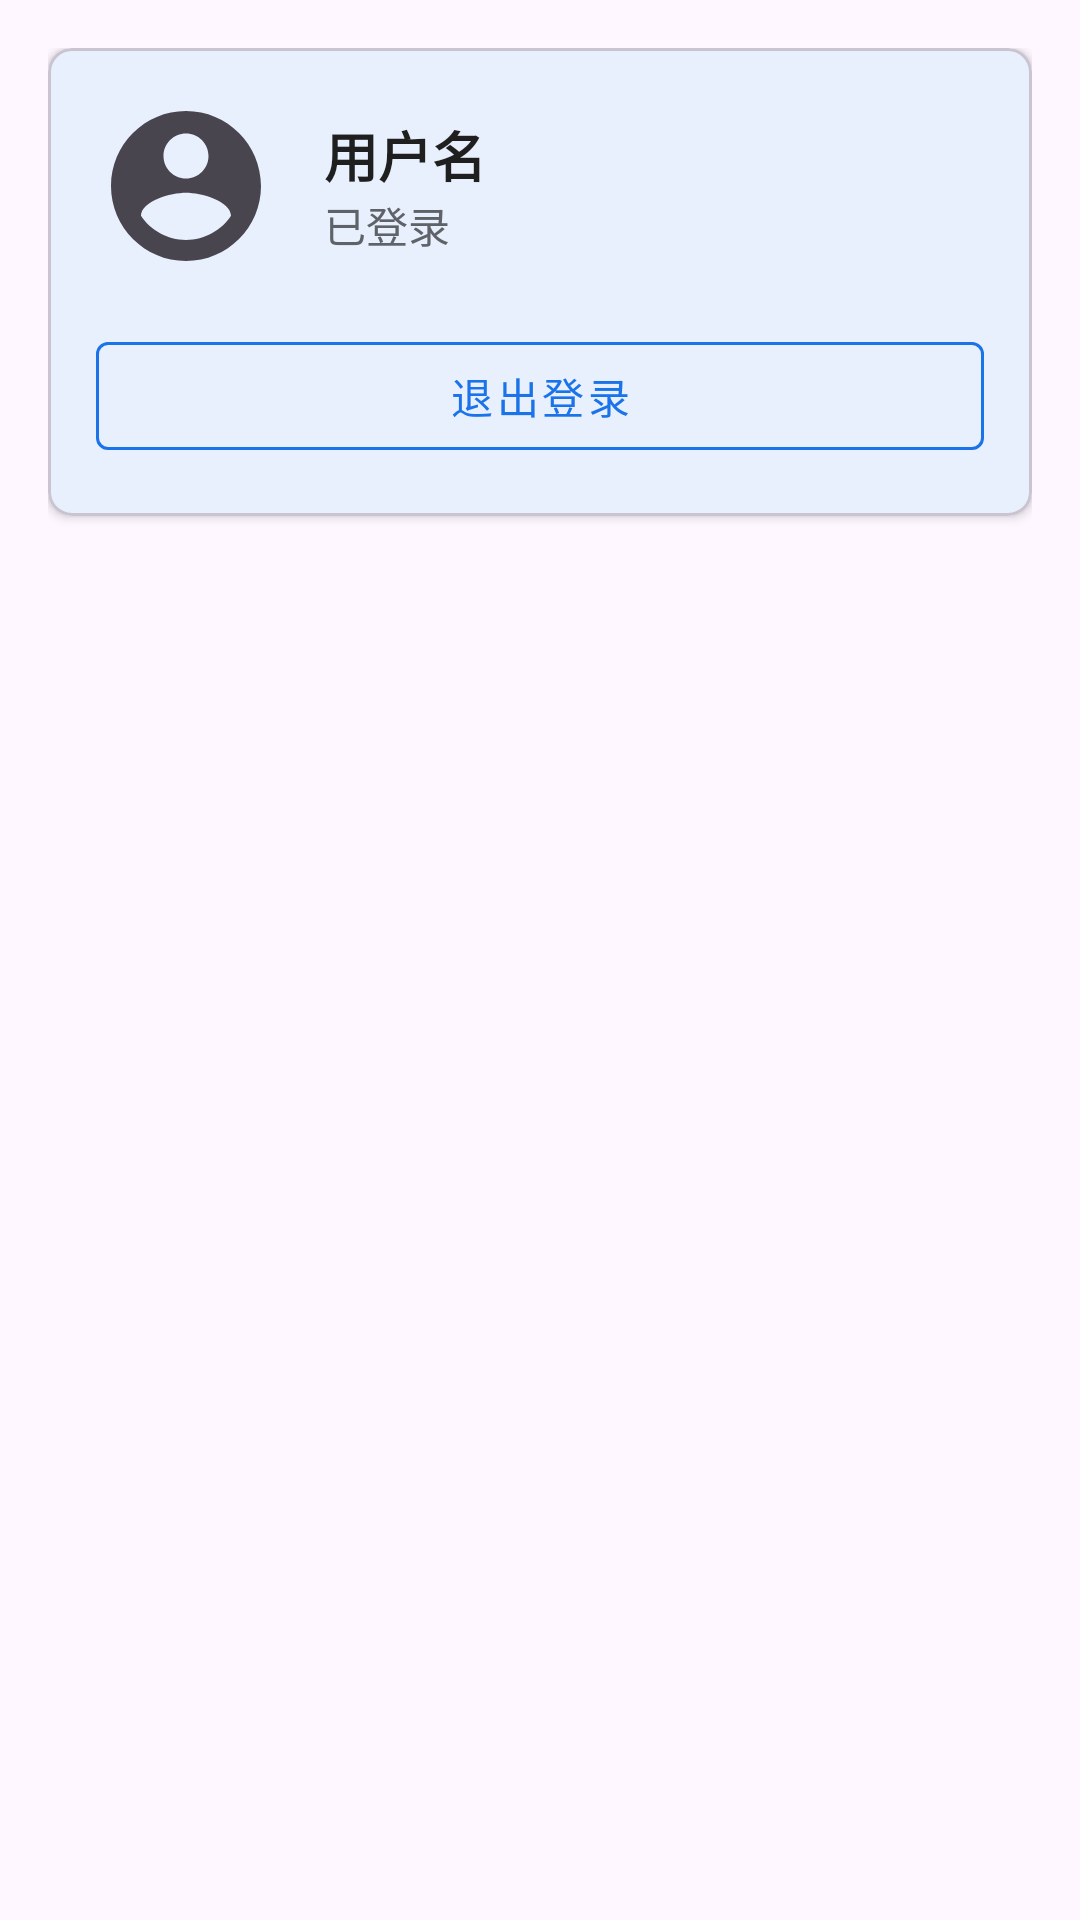

Icons on this 1080px x 1920px Android screen, each with its box as {"left": x1, "top": y1, "right": x2, "bottom": y2}:
account circle: {"left": 111, "top": 111, "right": 261, "bottom": 261}
